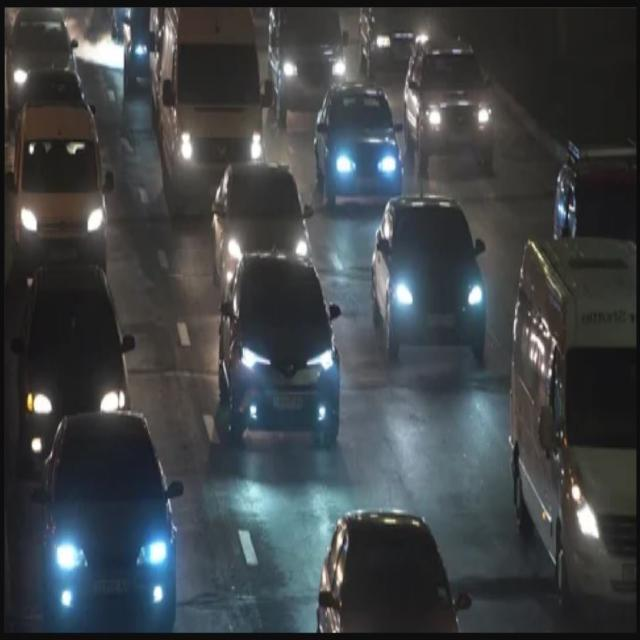headlights: (42, 525, 182, 589), (224, 340, 346, 390), (168, 118, 276, 174), (377, 274, 491, 326), (14, 197, 111, 251), (324, 146, 410, 187), (415, 98, 499, 139), (275, 54, 351, 86)
